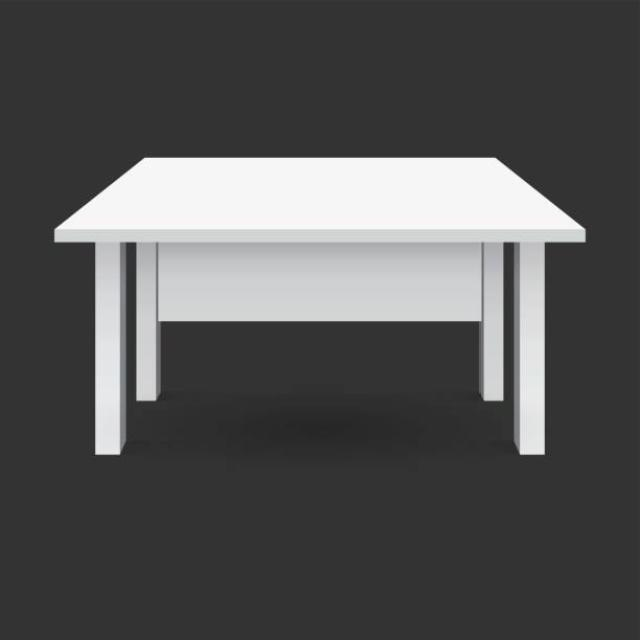table: (52, 154, 586, 458)
